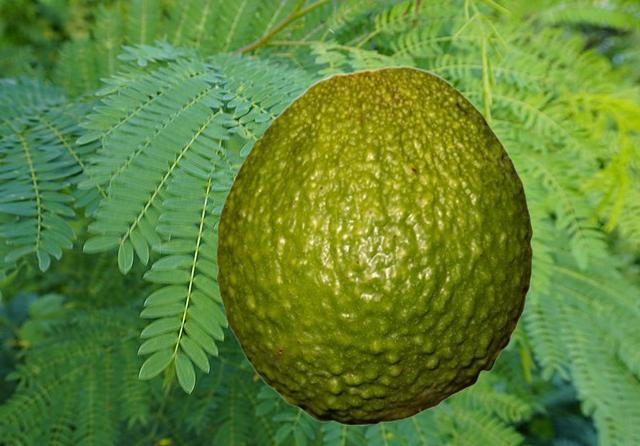avocado: (215, 65, 532, 424)
